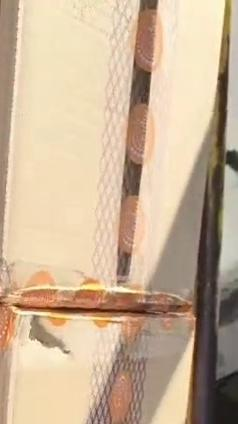box: (0, 307, 192, 423)
